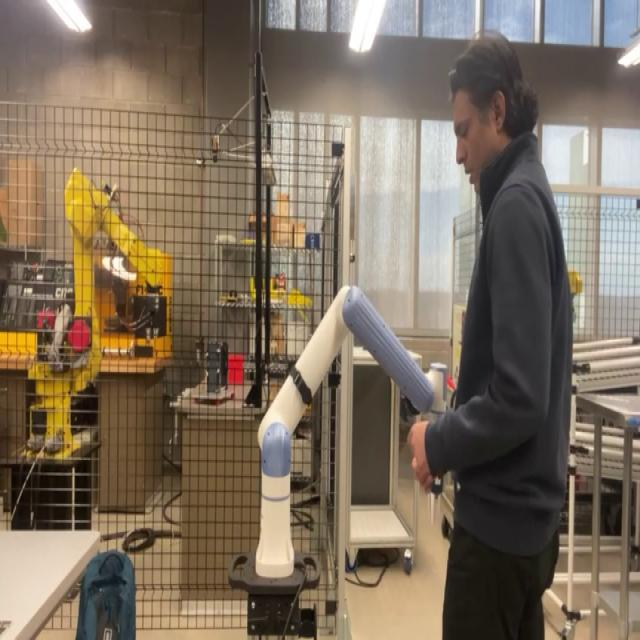robot: (242, 276, 454, 631)
